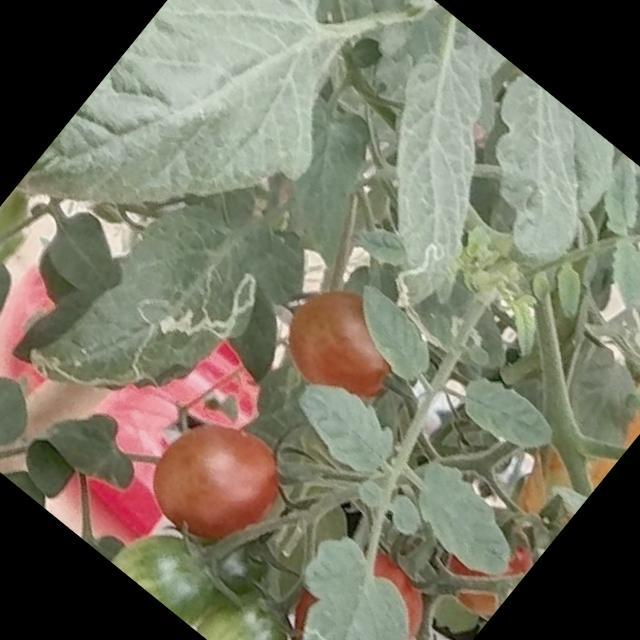Tomato target spot leaf: (17, 136, 324, 462), (277, 22, 574, 328), (220, 510, 458, 640), (563, 257, 640, 409)
